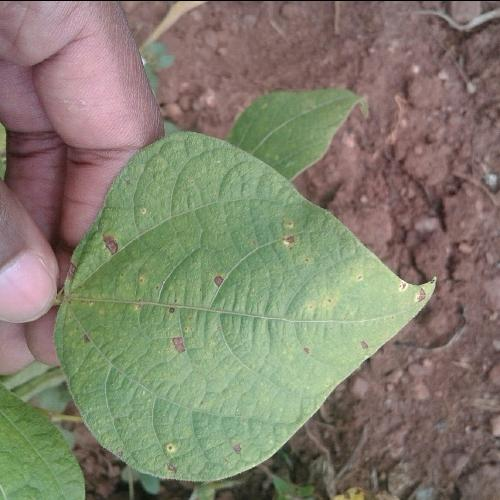hawar: (55, 212, 139, 356), (150, 260, 244, 380), (351, 276, 432, 378), (124, 437, 262, 495), (275, 217, 306, 271)
